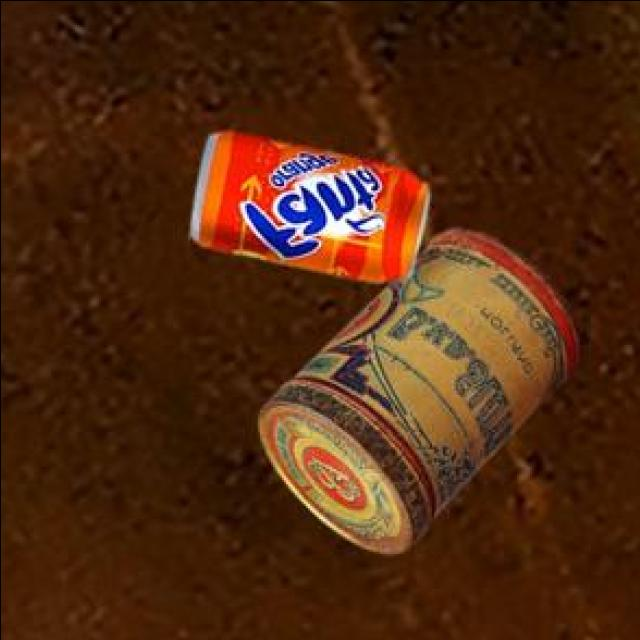logam: (260, 223, 584, 550), (193, 127, 430, 278)
